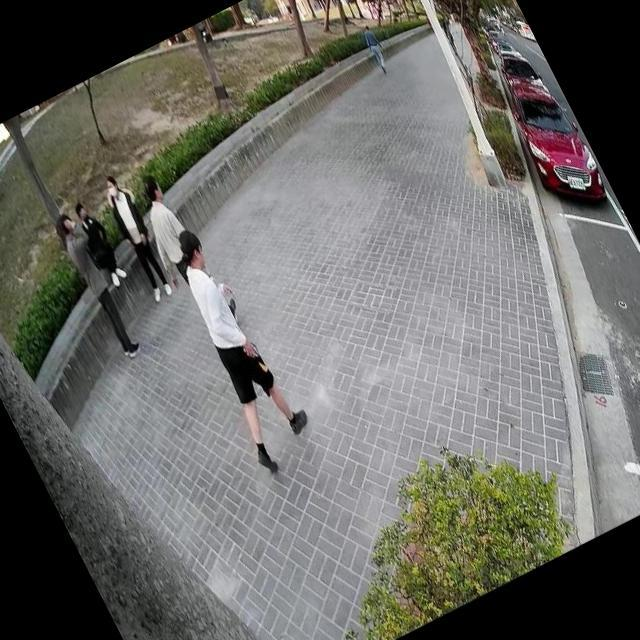person: (143, 212, 328, 484), (46, 202, 148, 364), (118, 165, 215, 302), (91, 164, 183, 304), (63, 194, 133, 294), (356, 18, 397, 77)
